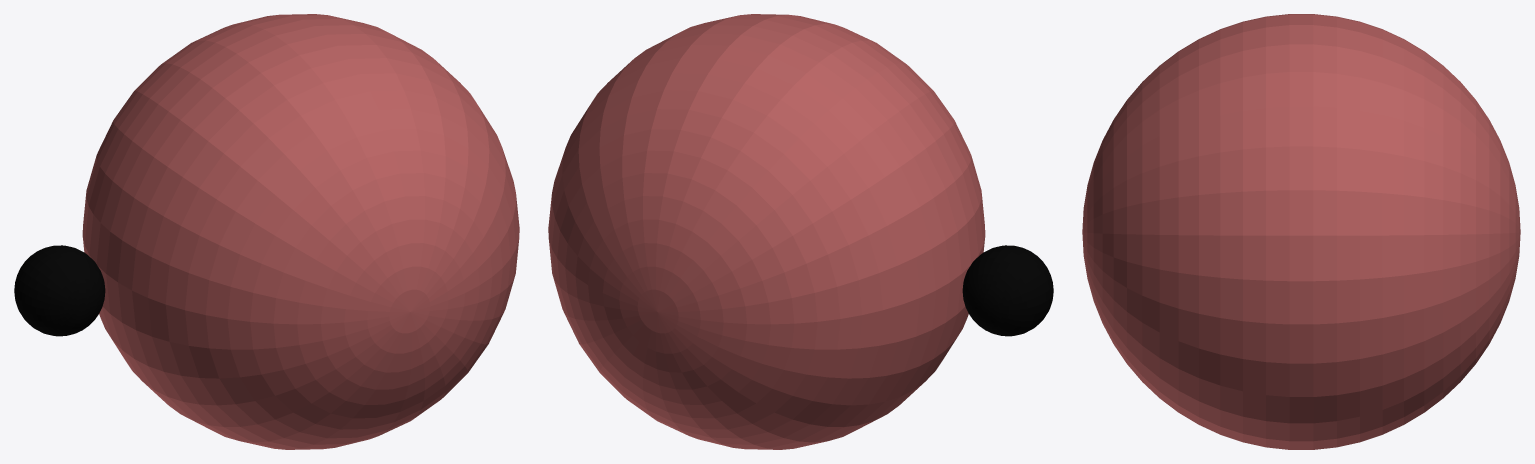
Rendered from Hydrobromic Acid.glb.
The picture shows the model from 3 angles, left to right: view 1: azimuth 30°, elevation 25°; view 2: azimuth 150°, elevation 25°; view 3: azimuth 270°, elevation 25°; orthographic projection.
Visible parts, largest first — view 1: world; view 2: world; view 3: world.
Boxes of the visible parts, x1,y1,x2,y2 form: world: (14,14,519,449); world: (548,14,1053,449); world: (1082,14,1520,449).
Size of the model in its own units: 2.98 by 2.38 by 2.4.
